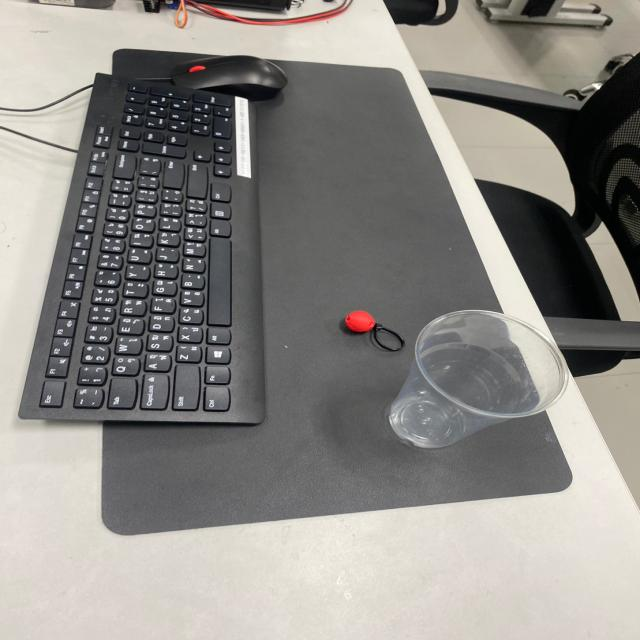glass: (384, 307, 578, 453)
